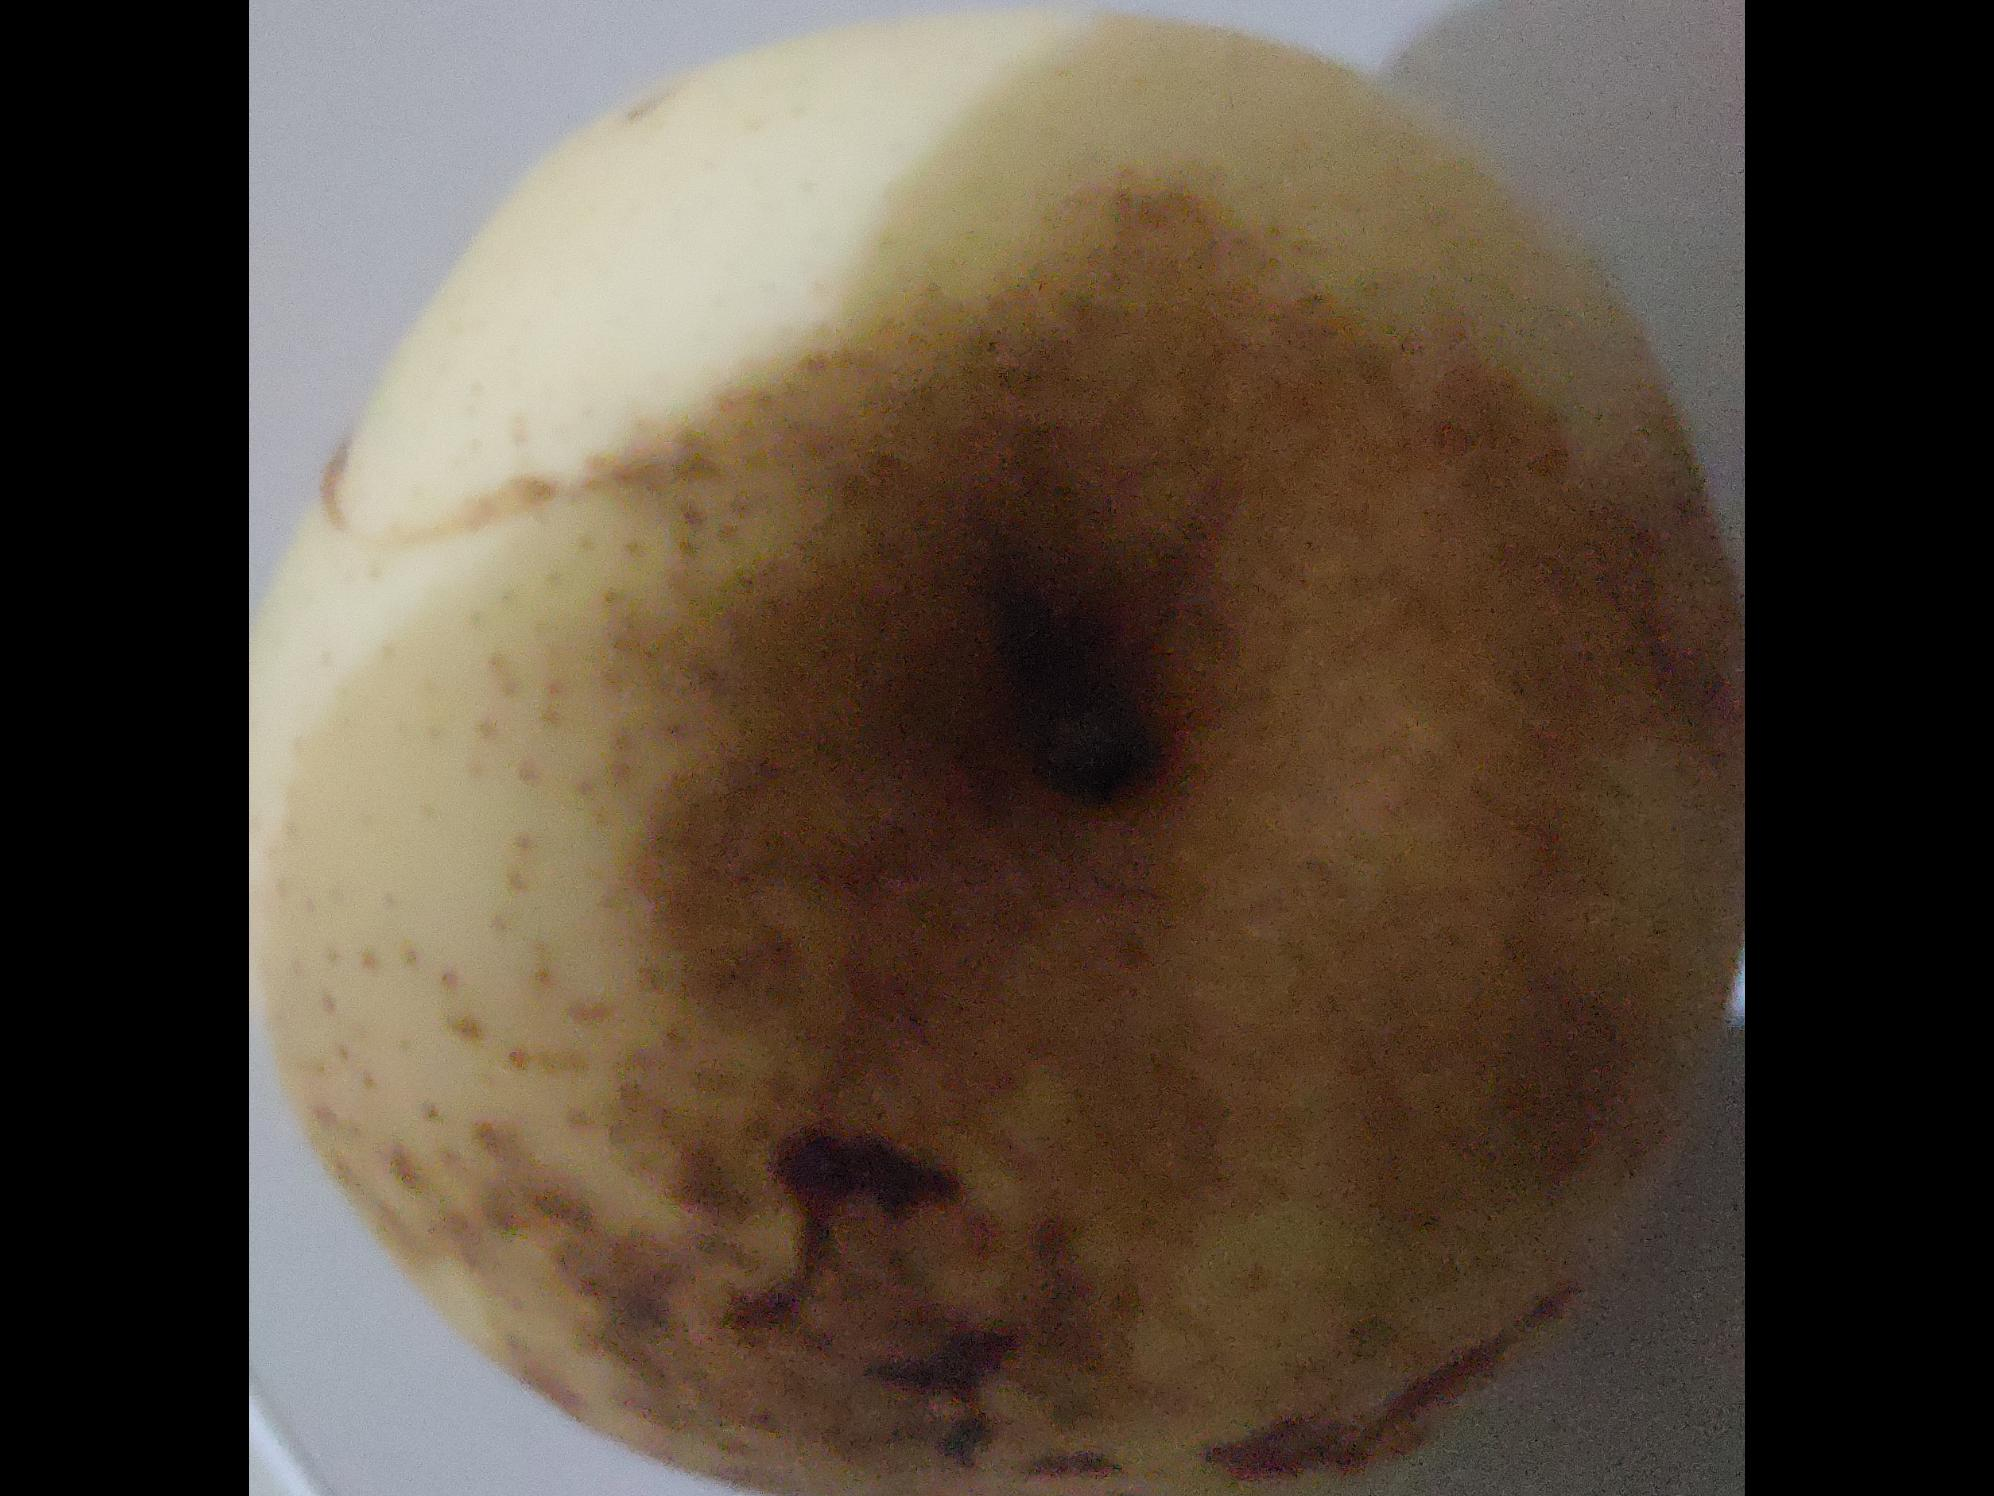Bad Pear: (248, 22, 1746, 1496)
